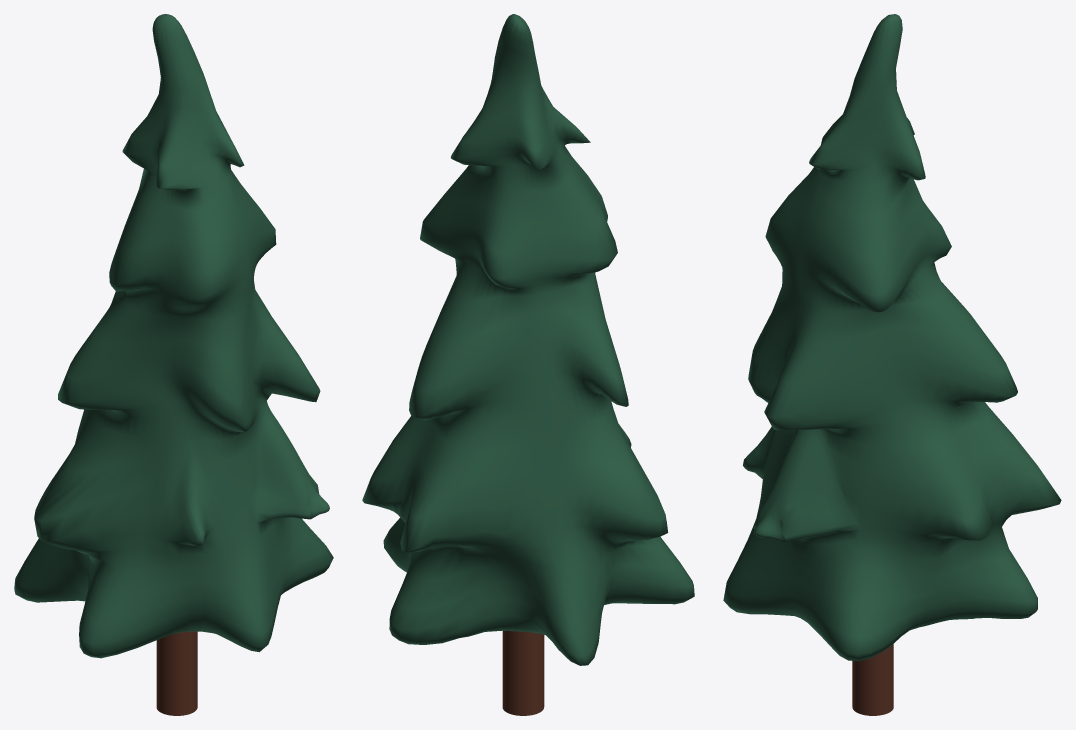
The model's file is pine_2.glb.
The picture shows the model from 3 angles, left to right: view 1: azimuth 30°, elevation 25°; view 2: azimuth 150°, elevation 25°; view 3: azimuth 270°, elevation 25°; orthographic projection.
Visible parts, largest first — view 1: Cylinder.001, Cylinder; view 2: Cylinder.001, Cylinder; view 3: Cylinder.001, Cylinder.
Boxes of the visible parts, x1,y1,x2,y2 form: Cylinder.001: (14, 14, 333, 658); Cylinder: (156, 631, 197, 715); Cylinder.001: (362, 14, 694, 665); Cylinder: (502, 630, 544, 715); Cylinder.001: (723, 14, 1061, 661); Cylinder: (852, 644, 893, 715).
Size of the model in its own units: 3.48 by 8.05 by 3.56.
